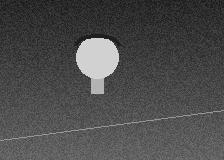no_helmet: (76, 34, 118, 83)
